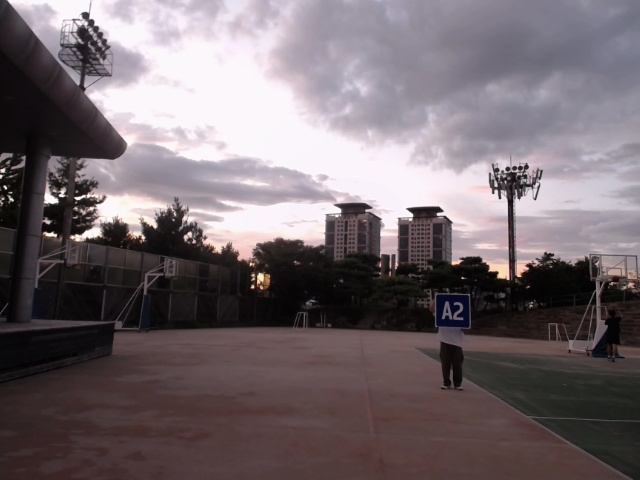delivery_a2: (435, 293, 471, 329)
